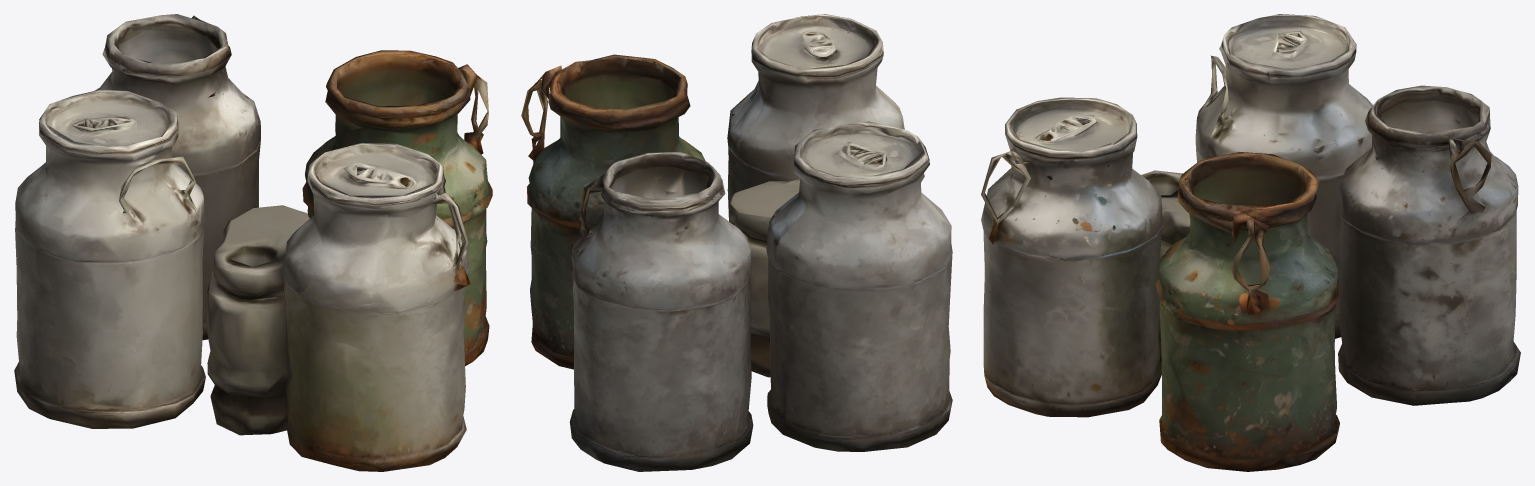
Rendered from kh_cans.glb.
3 views of the same model, side by side, from view 1: azimuth 30°, elevation 25°; view 2: azimuth 150°, elevation 25°; view 3: azimuth 270°, elevation 25° (orthographic). The views are drawn at different scales.
Parts seen in each view (by area): view 1: tripo_node_f86e85ac-5a07-475c-87c4-75f5587c572b; view 2: tripo_node_f86e85ac-5a07-475c-87c4-75f5587c572b; view 3: tripo_node_f86e85ac-5a07-475c-87c4-75f5587c572b.
Boxes of the visible parts, bbox=[...] form: tripo_node_f86e85ac-5a07-475c-87c4-75f5587c572b: bbox=[14, 14, 492, 471]; tripo_node_f86e85ac-5a07-475c-87c4-75f5587c572b: bbox=[521, 14, 952, 471]; tripo_node_f86e85ac-5a07-475c-87c4-75f5587c572b: bbox=[981, 14, 1520, 471].
Bounding box in the file's own units: 0.9141 × 0.5458 × 1.
Materials: 1 (1 with a texture image).
